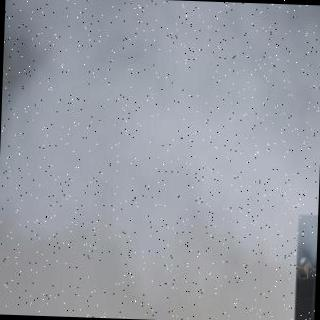smoke: (33, 0, 320, 269)
